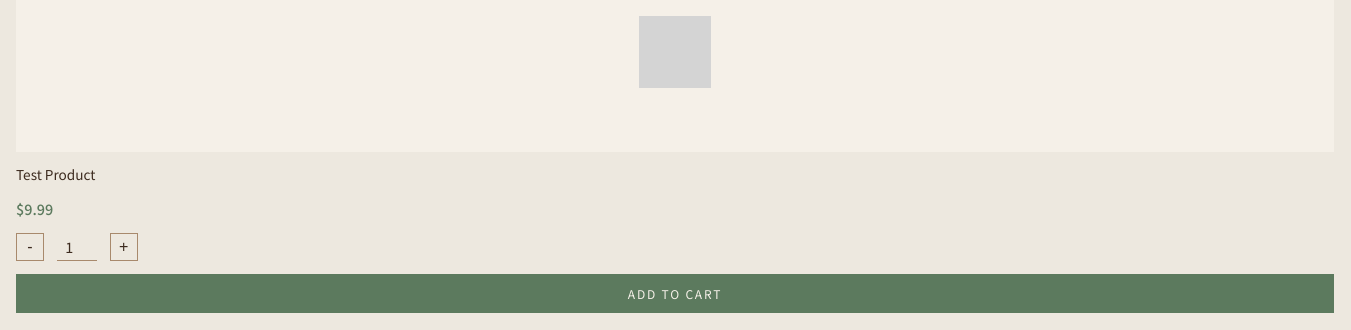
Test case: ProductCard › clicking + increments the quantity
Click the button "+": (124, 247) [110, 233, 138, 261]
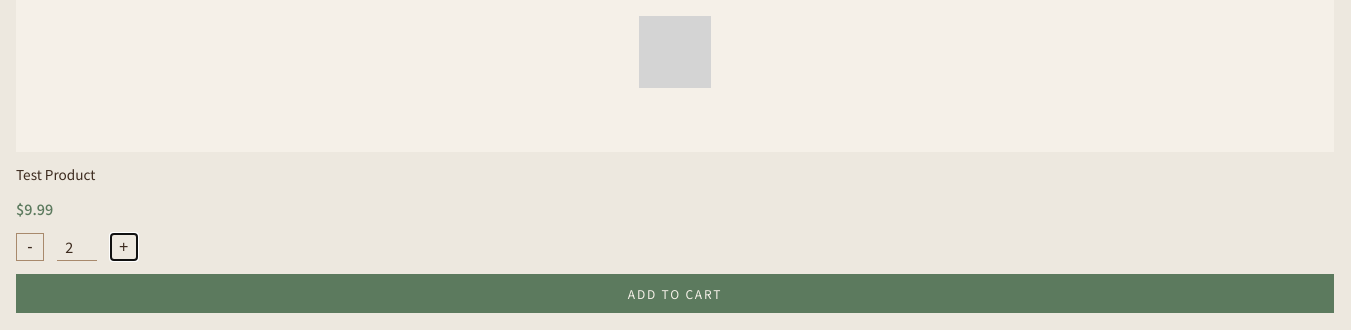
Check: the number field holds "2", box [57, 232, 97, 261]
